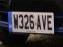2: (24, 14, 30, 29)
3: (19, 14, 24, 30)
6: (30, 14, 34, 29)
A: (36, 14, 41, 30)
E: (46, 14, 53, 31)
M: (13, 14, 19, 29)
V: (41, 14, 47, 30)
